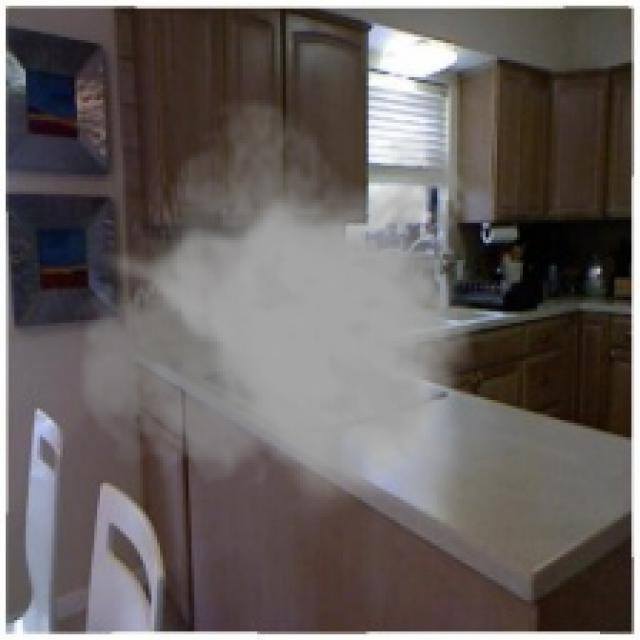Smoke: (74, 100, 480, 517)
